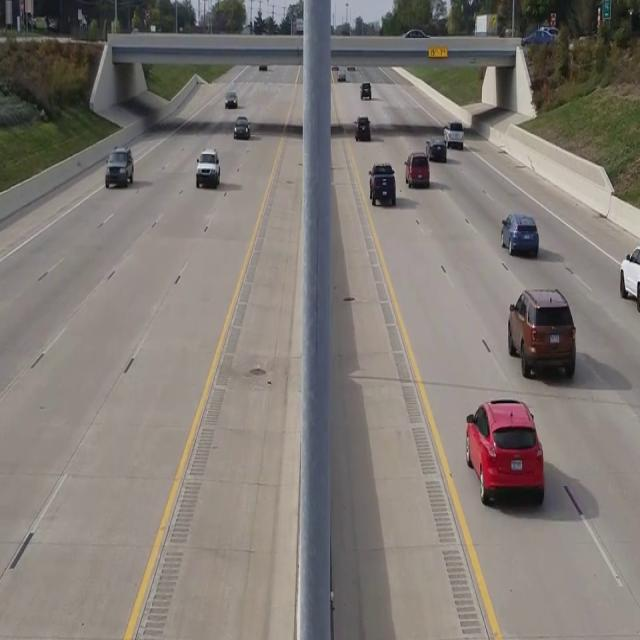car: (464, 398, 544, 505), (507, 287, 576, 379), (501, 212, 538, 257), (618, 244, 640, 314), (105, 147, 133, 187), (369, 162, 395, 205), (195, 148, 220, 189), (404, 152, 429, 187), (444, 121, 464, 148), (425, 136, 446, 161), (233, 116, 250, 139), (355, 116, 370, 140), (225, 91, 237, 108), (360, 82, 371, 98)
